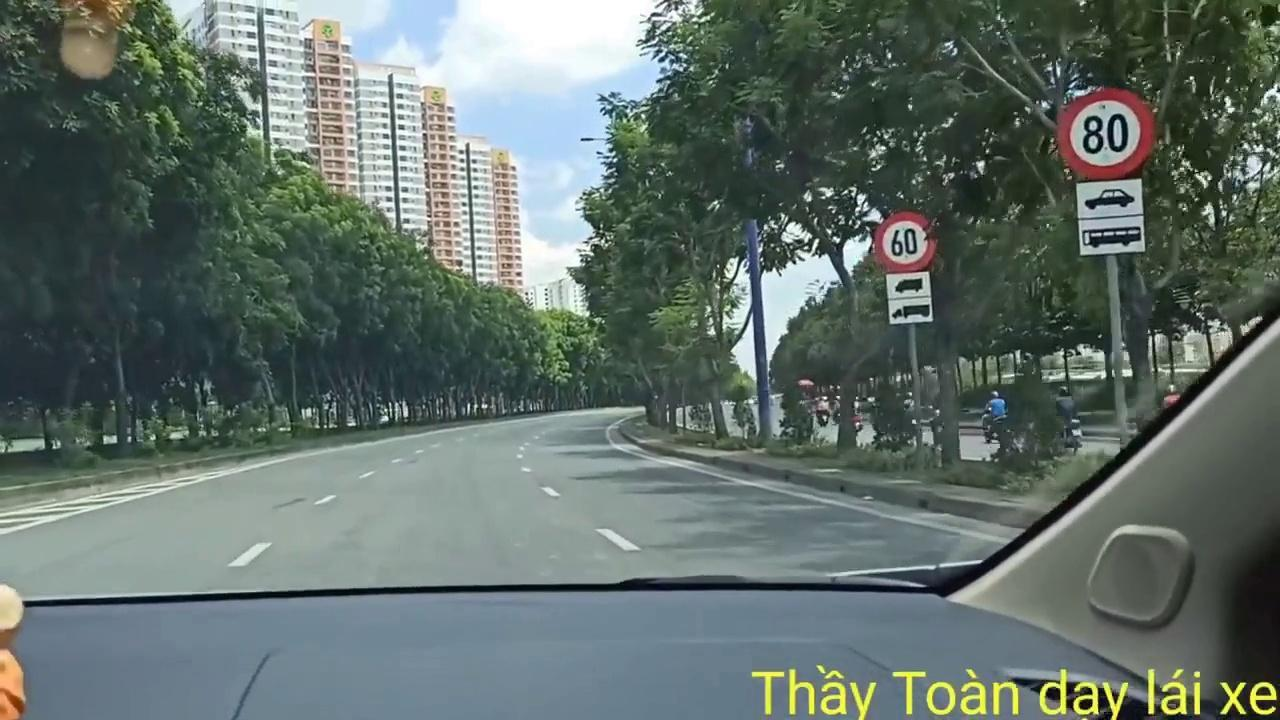Biển phụ: (1076, 180, 1143, 254), (883, 272, 935, 324)
GIơi hạn tốc độ 60Km/h: (874, 205, 938, 271)
Giới hạn tốc độ 80Km/h: (1055, 85, 1155, 180)
